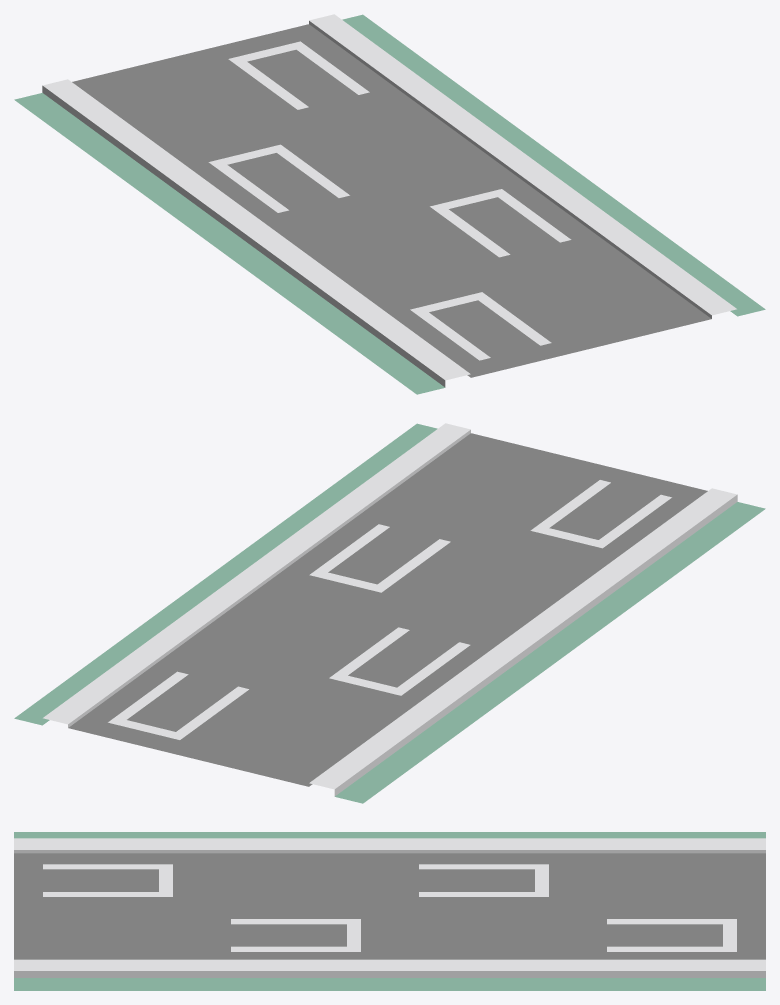
Rendered from roadStartPositions.glb.
3 views of the same model, one above another, from view 1: azimuth 30°, elevation 25°; view 2: azimuth 150°, elevation 25°; view 3: azimuth 270°, elevation 25° (orthographic). The views are drawn at different scales.
Visible parts, largest first — view 1: roadStartPositions(Clone); view 2: roadStartPositions(Clone); view 3: roadStartPositions(Clone).
Boxes of the visible parts, box(x1,y1,x2,y2) form: roadStartPositions(Clone): box(14, 14, 765, 394); roadStartPositions(Clone): box(14, 423, 765, 803); roadStartPositions(Clone): box(14, 832, 765, 990).
Bounding box in the file's own units: 1 × 0.02 × 2.
